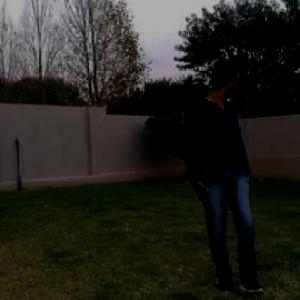follow: (195, 57, 251, 283)
